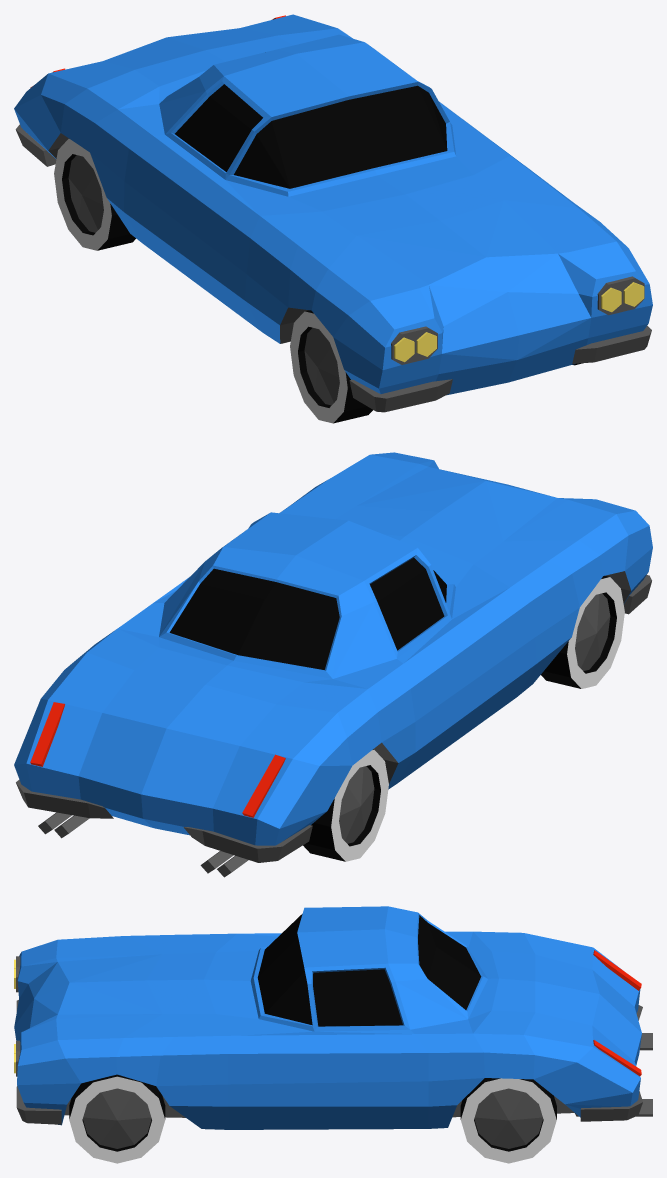
The model's file is car2.fbx.
3 views of the same model, one above another, from view 1: azimuth 30°, elevation 25°; view 2: azimuth 150°, elevation 25°; view 3: azimuth 270°, elevation 25° (orthographic). The views are drawn at different scales.
Visible parts, largest first — view 1: Cylinder, wheeles; view 2: Cylinder, wheeles; view 3: Cylinder, wheeles.
Part boxes in pixels (x1,y1,x2,y2): Cylinder: [14, 14, 652, 412]; wheeles: [54, 138, 582, 423]; Cylinder: [14, 452, 652, 877]; wheeles: [303, 575, 624, 861]; Cylinder: [14, 906, 652, 1129]; wheeles: [69, 1074, 556, 1163].
Bounding box in the file's own units: 126 × 88.85 × 288.
